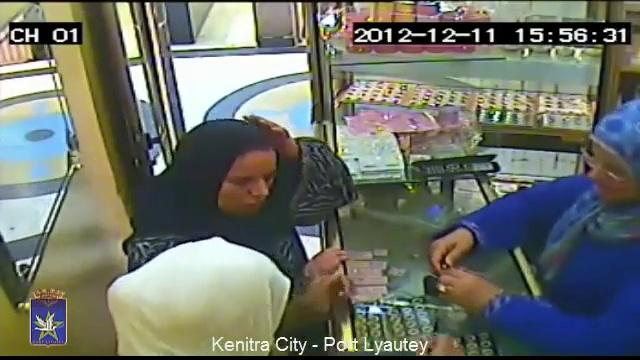Product: (437, 252, 453, 277)
Product-Picked: (392, 90, 640, 353)
Regular: (136, 205, 354, 360), (173, 104, 290, 226)
